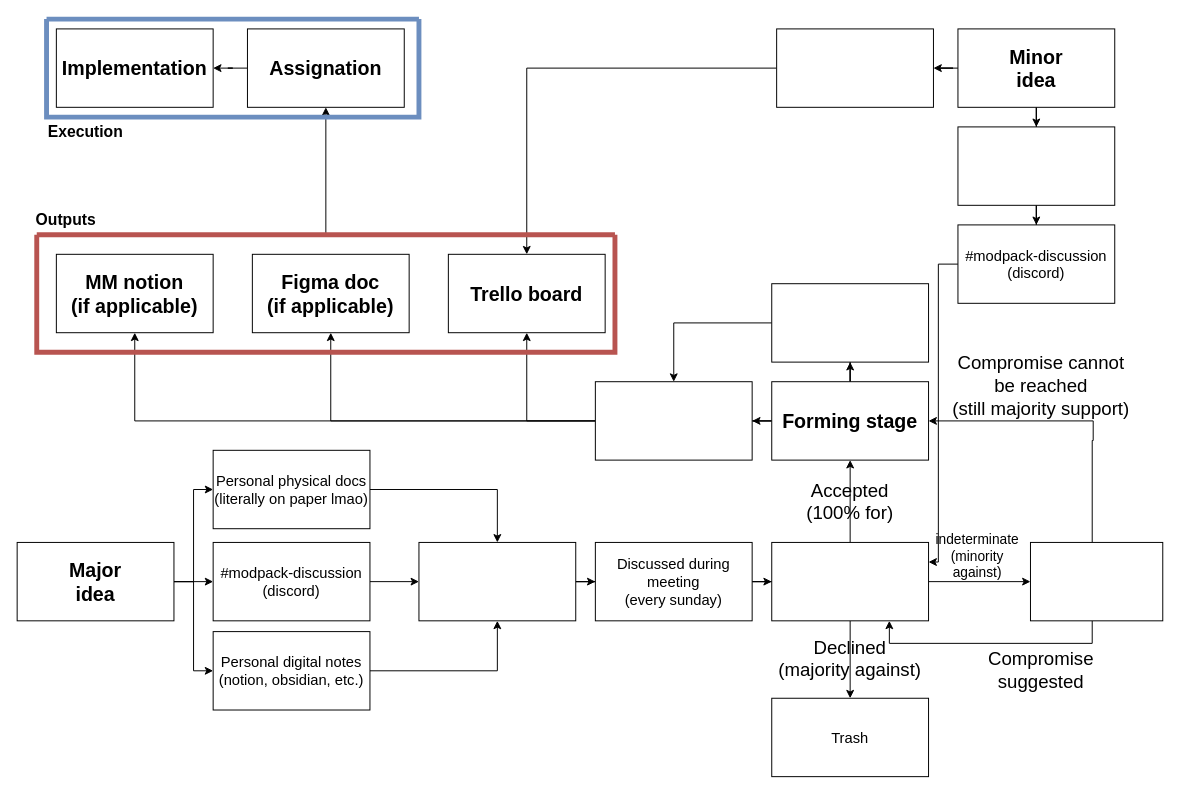
Some shapes in this 1180 by 794 pixel diagram are drawn without their labels. The box of each missing label's shape, as (x1, y1, x2, y2) in pixels:
Amendment (an edit to an existing proposal): (771, 283, 929, 362)
Further discussion: (1029, 541, 1163, 621)
Meeting thread (discord): (418, 541, 576, 621)
Order (doesn't require discussion): (776, 28, 933, 107)
Out-of-meeting suggestion (still needs discussion): (957, 126, 1115, 205)
Proposal (a new mechanic): (594, 381, 752, 460)
Vote: (771, 541, 929, 621)
